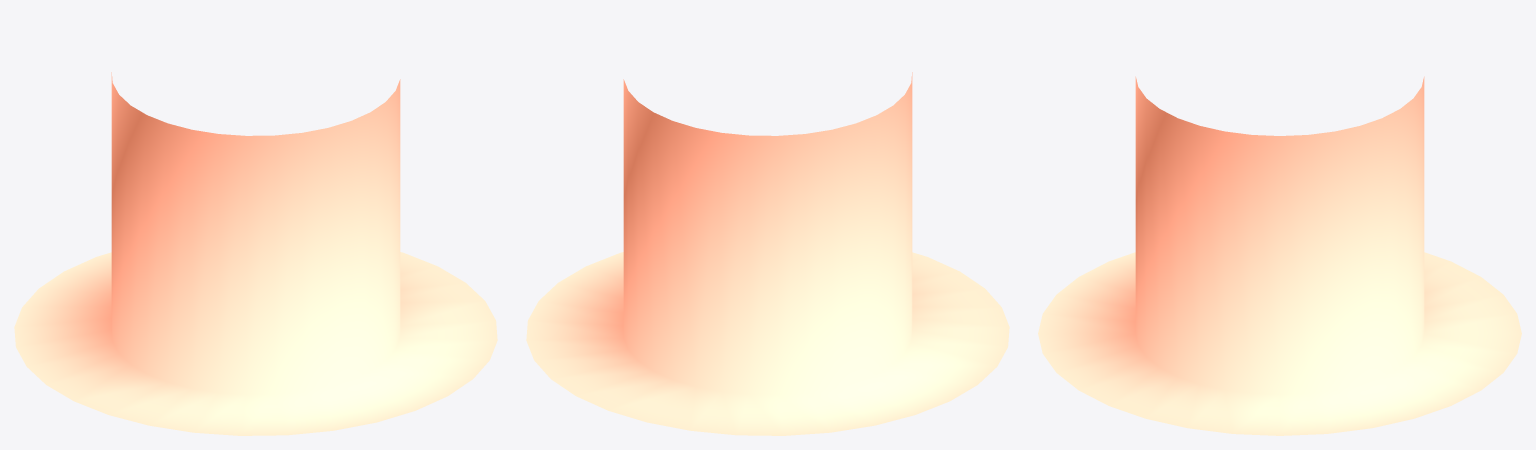
Rendered from UI_Glow_Orange.gltf.
The picture shows the model from 3 angles, left to right: view 1: azimuth 30°, elevation 25°; view 2: azimuth 150°, elevation 25°; view 3: azimuth 270°, elevation 25°; orthographic projection.
Parts seen in each view (by area): view 1: UI_Glow_Orange; view 2: UI_Glow_Orange; view 3: UI_Glow_Orange.
Boxes of the visible parts, x1,y1,x2,y2 form: UI_Glow_Orange: (14,72,497,435); UI_Glow_Orange: (526,72,1009,435); UI_Glow_Orange: (1038,76,1521,435).
Bounding box in the file's own units: 0.0599 × 0.0354 × 0.0599.
